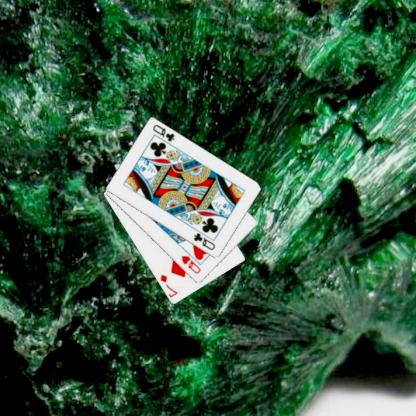7D: (159, 272, 180, 298)
QC: (193, 230, 218, 252), (152, 122, 178, 143)
QH: (180, 253, 204, 275)
